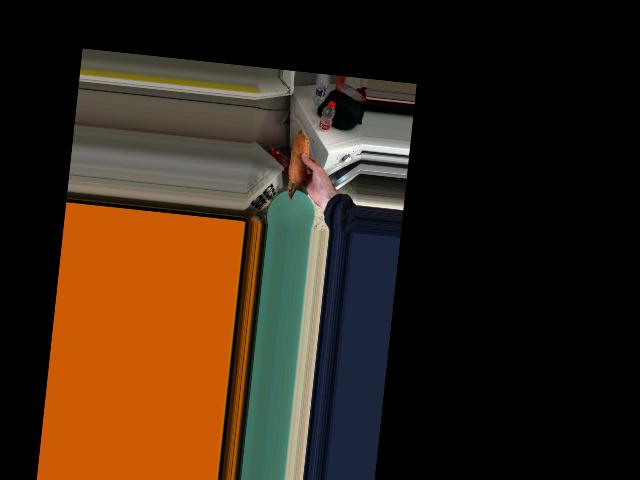sweet_potato: (286, 137, 315, 199)
